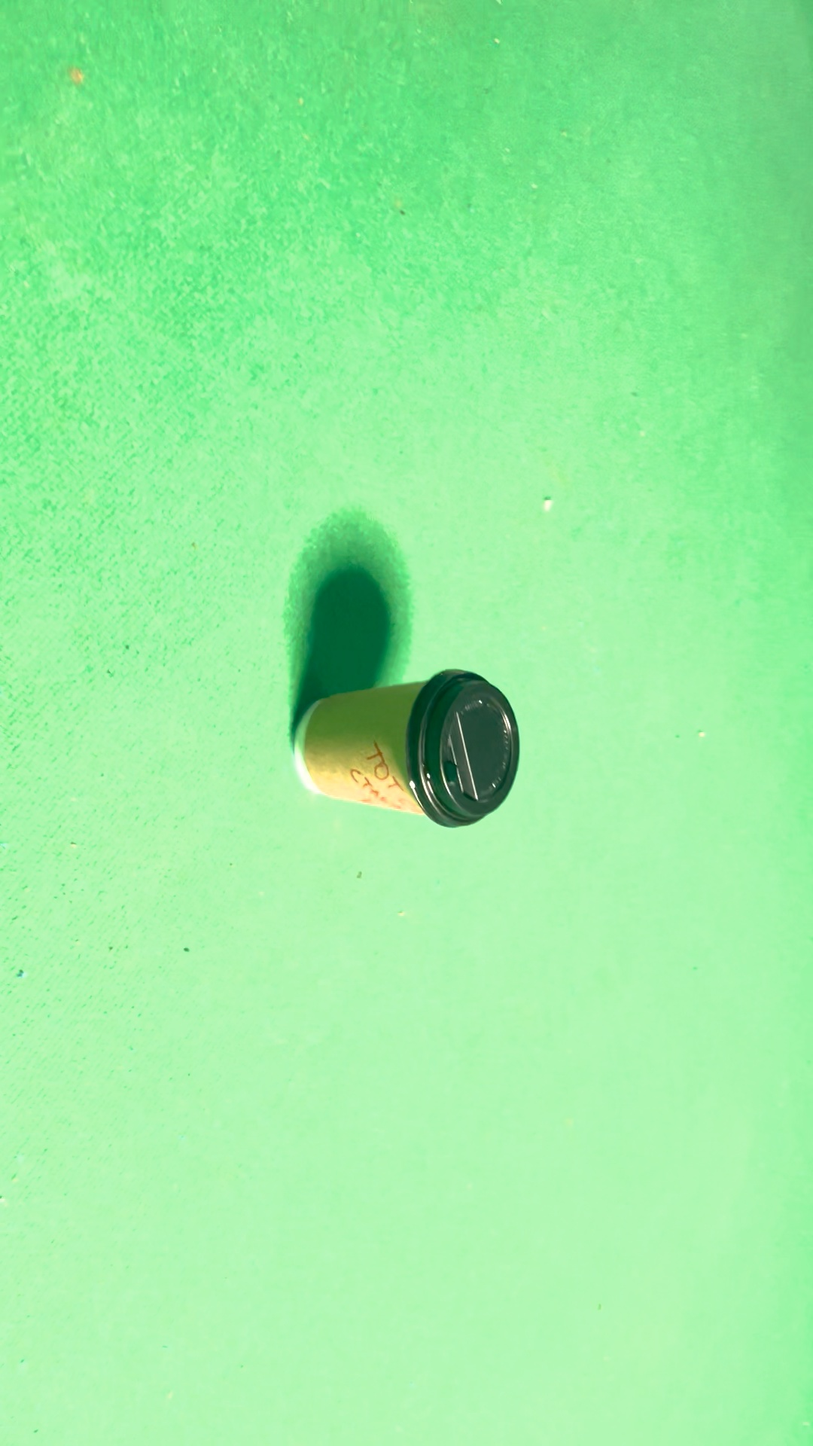cup: (409, 504, 488, 908)
